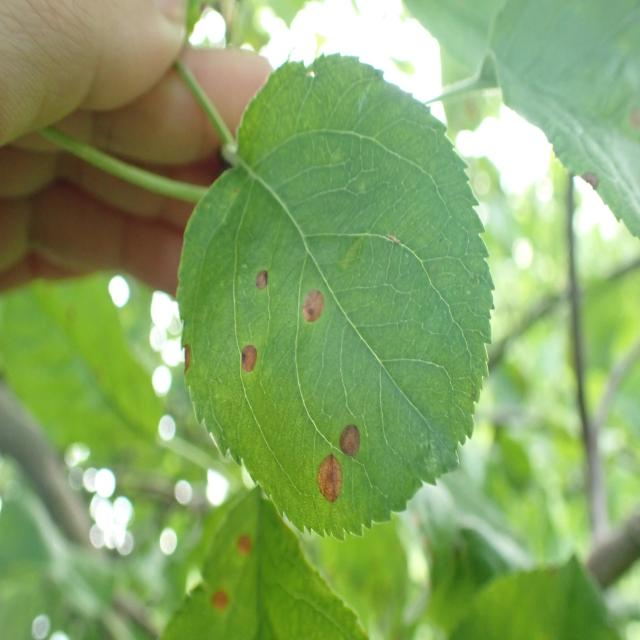Black Rot: (309, 449, 361, 515), (327, 400, 376, 465), (192, 573, 248, 624), (226, 326, 261, 395), (300, 262, 328, 342), (228, 518, 261, 568), (249, 248, 274, 304), (177, 330, 200, 376)
